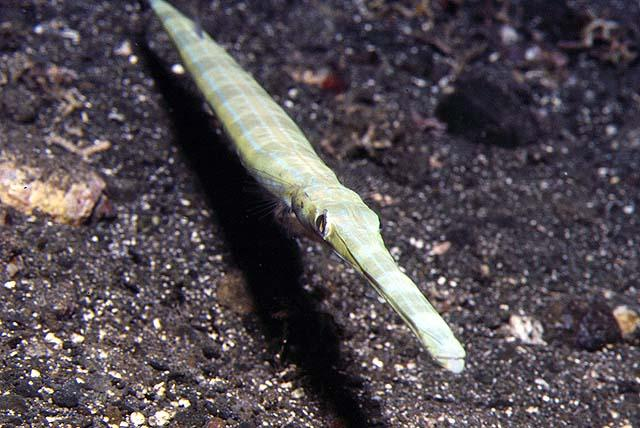Fistularia commersonii: (146, 0, 468, 375)
